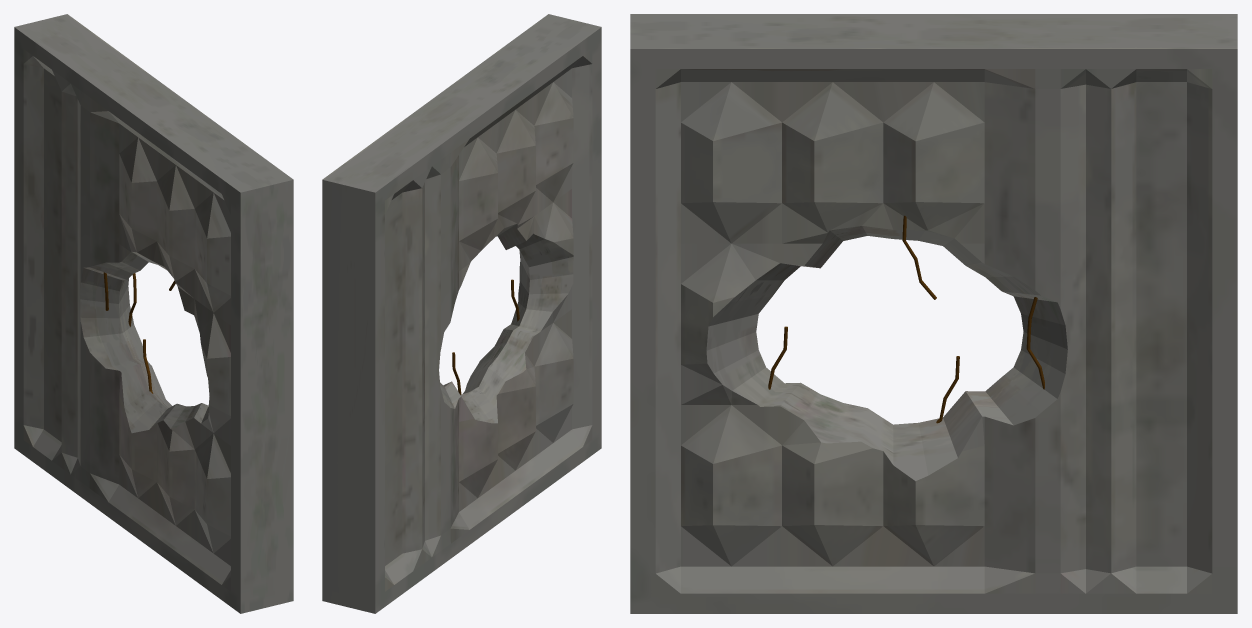
File: zaborBolshoy2.fbx
3 views of the same model, side by side, from view 1: azimuth 30°, elevation 25°; view 2: azimuth 150°, elevation 25°; view 3: azimuth 270°, elevation 25° (orthographic). The views are drawn at different scales.
Parts seen in each view (by area): view 1: Cube; view 2: Cube; view 3: Cube.
Part boxes in pixels (<box>): Cube: <box>14,14,293,613</box>; Cube: <box>322,14,601,613</box>; Cube: <box>630,14,1237,613</box>.
Size of the model in its own units: 30.85 by 212 by 207.
Materials: 4 (1 with a texture image).
